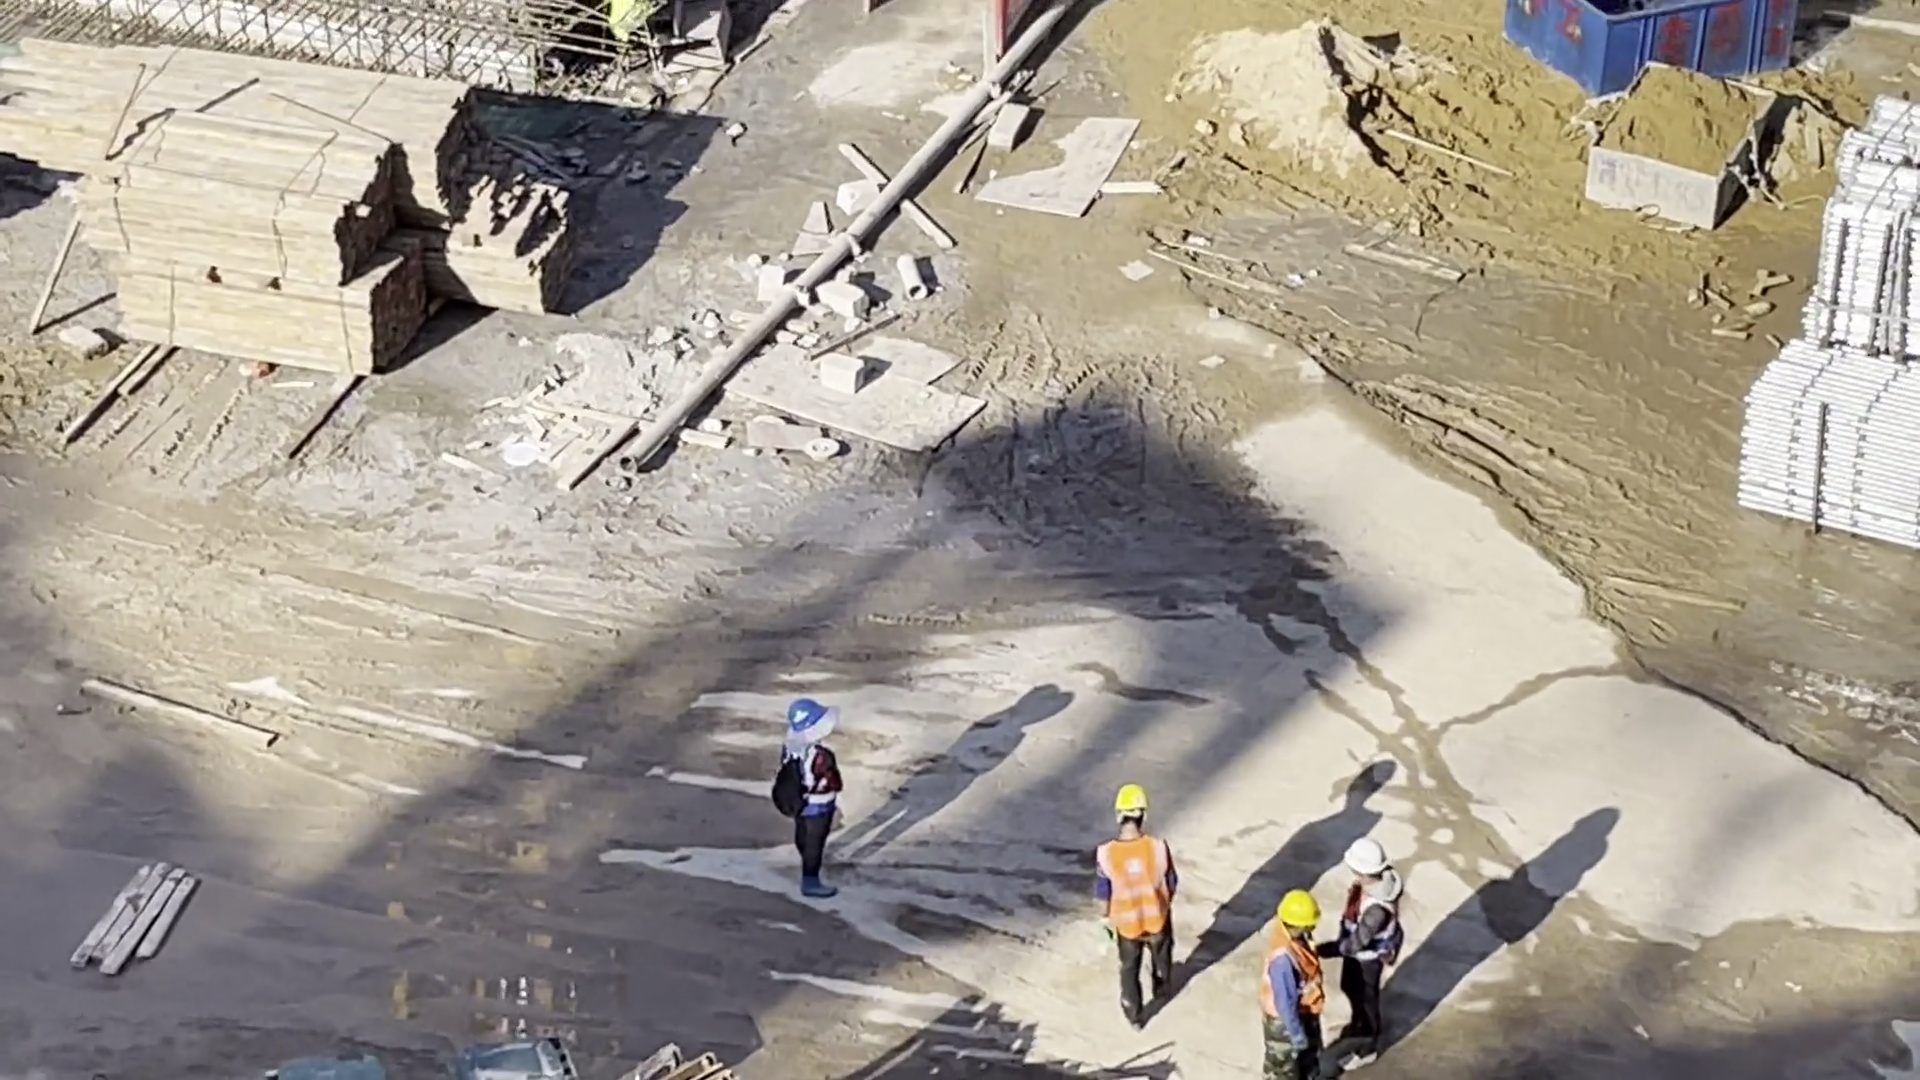helmet: (1340, 837, 1389, 881), (788, 695, 829, 734), (1277, 892, 1319, 923), (1111, 783, 1152, 810)
hopper: (1588, 60, 1778, 230), (1494, 1, 1818, 95)
person: (1317, 837, 1400, 1068), (1100, 783, 1174, 1023), (778, 699, 848, 900), (1267, 891, 1327, 1080)
scaffold: (1742, 341, 1918, 552), (1806, 106, 1920, 362)
vest: (1098, 837, 1169, 934), (1262, 927, 1324, 1014), (792, 743, 836, 818)
wood: (89, 120, 424, 373), (1, 42, 474, 207)
